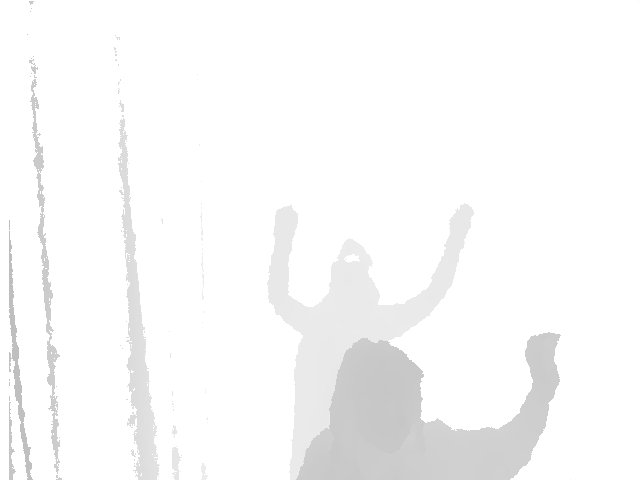hand: (523, 332, 562, 382), (272, 206, 298, 244), (448, 204, 473, 242)
head: (330, 337, 422, 448), (327, 240, 380, 306)
person: (266, 205, 473, 480), (293, 332, 562, 480)
